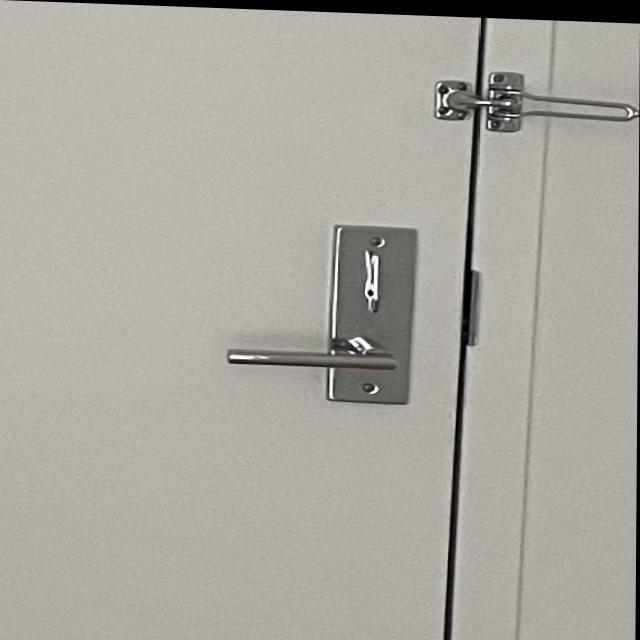door_handle: (212, 317, 430, 393)
